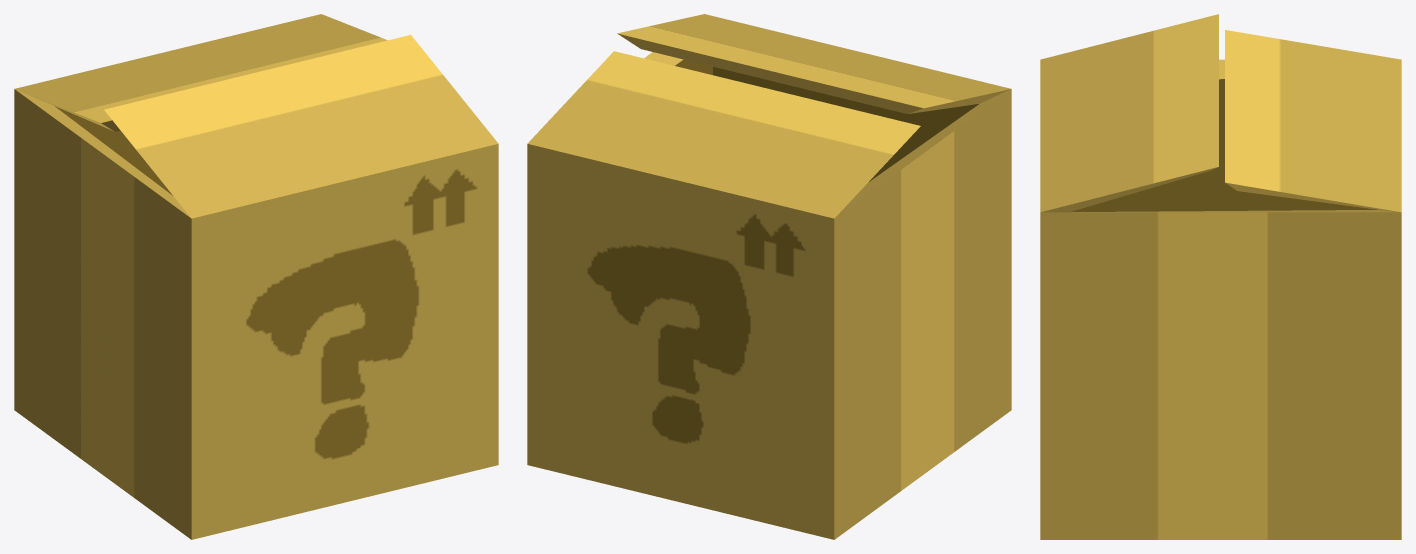
The model's file is powerup.glb.
3 renders of one model, left to right at view 1: azimuth 30°, elevation 25°; view 2: azimuth 150°, elevation 25°; view 3: azimuth 270°, elevation 25°, orthographic.
Parts seen in each view (by area): view 1: Cube.001; view 2: Cube.001; view 3: Cube.001.
Part boxes in pixels (x1,y1,x2,y2): Cube.001: (14,14,498,539); Cube.001: (527,14,1011,539); Cube.001: (1040,14,1401,539).
Size of the model in its own units: 2 by 2.28 by 2.
Materials: 1 (1 with a texture image).
